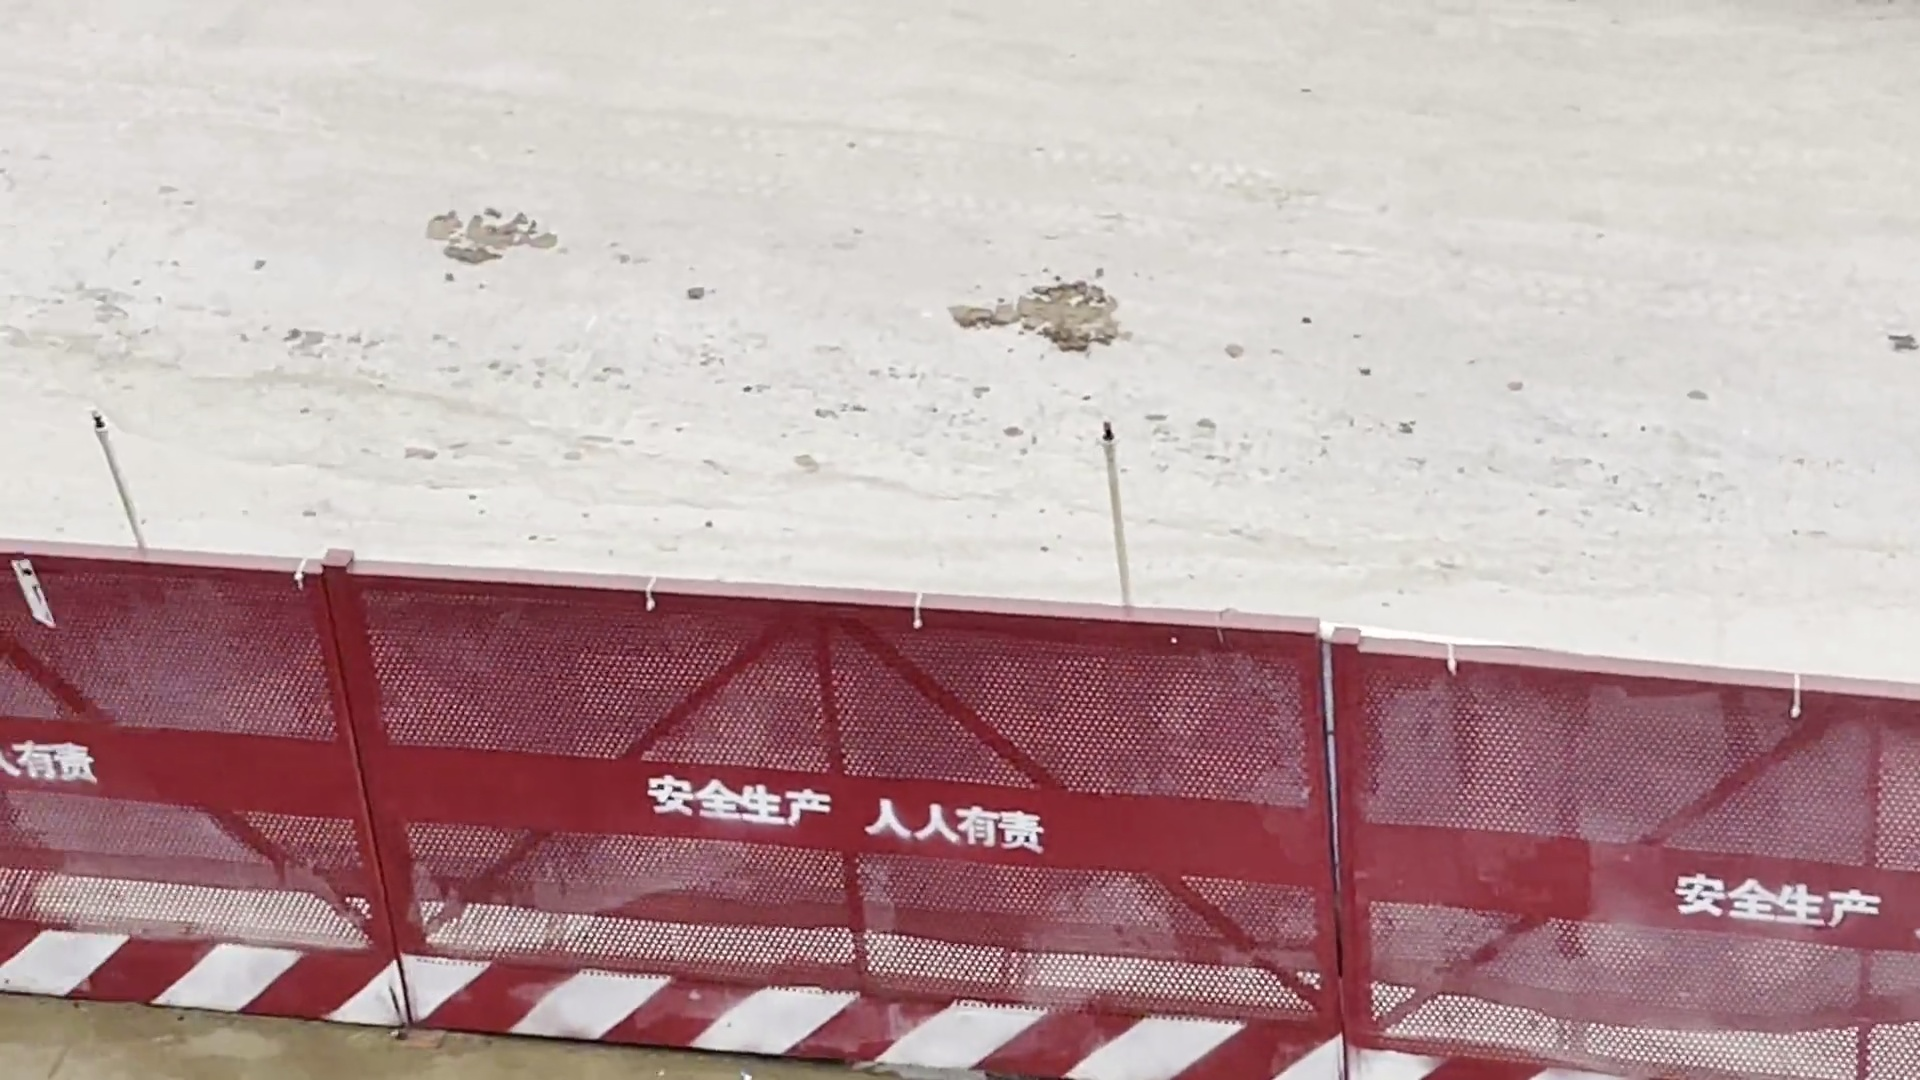fence: (1, 479, 1902, 1068)
